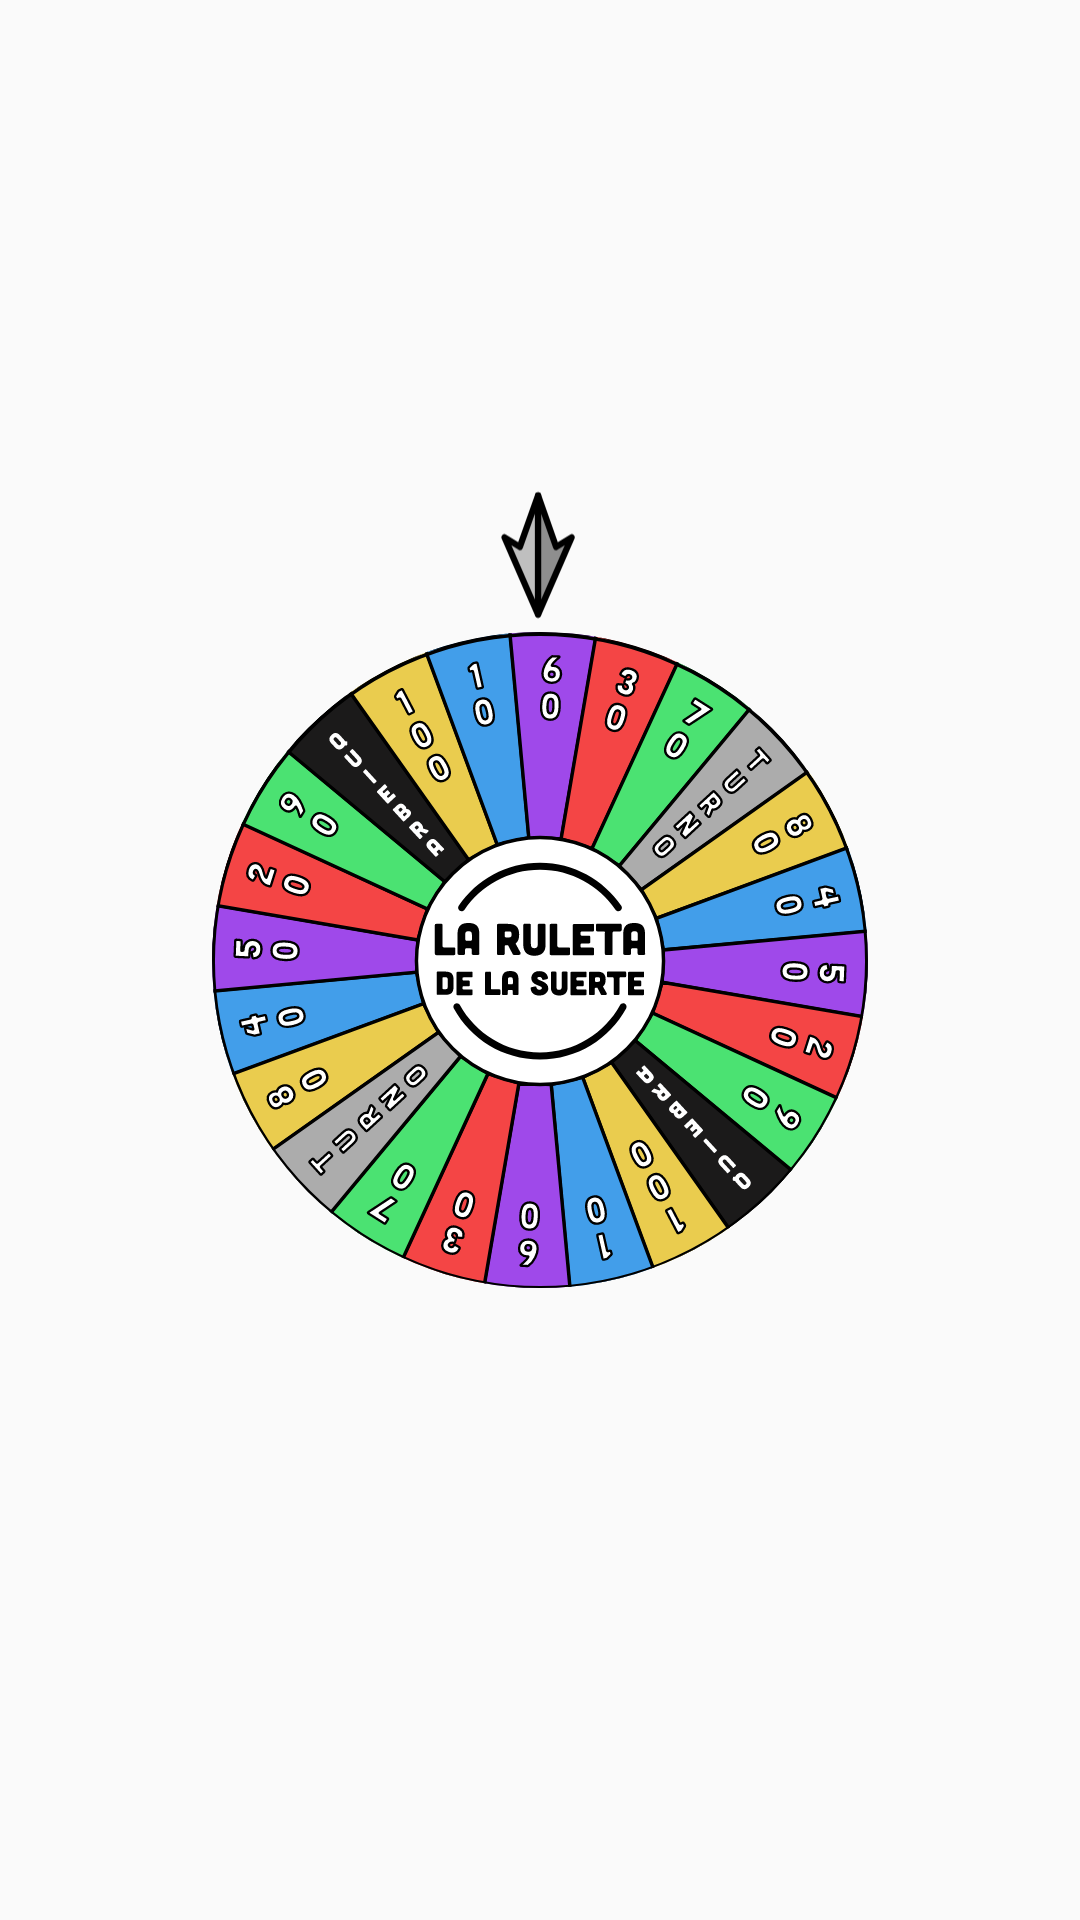

Screen size 1080×1920. Icon name, then its box in pixels as bbox(x1, y1, x2, y2):
flechita: bbox(501, 491, 575, 619)
